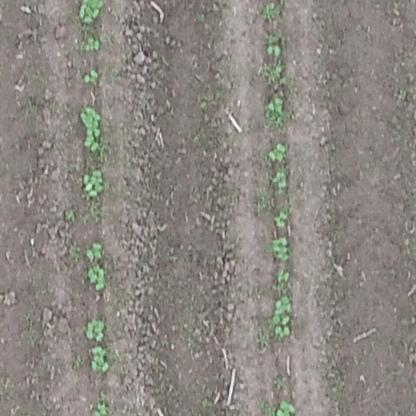vc: (77, 104, 105, 152), (84, 264, 113, 296), (81, 166, 106, 202), (87, 345, 113, 374), (76, 1, 106, 26), (84, 317, 106, 342), (271, 294, 295, 316), (270, 237, 291, 262), (267, 317, 293, 337), (83, 238, 105, 261), (268, 139, 287, 163), (271, 397, 296, 415), (265, 93, 285, 115), (270, 170, 291, 190), (81, 35, 100, 53), (83, 67, 99, 84), (274, 209, 288, 227), (266, 43, 283, 57), (276, 268, 291, 283)
